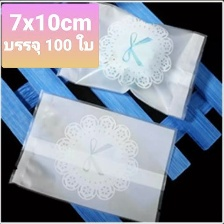snack: (3, 83, 179, 221), (50, 2, 211, 124)
